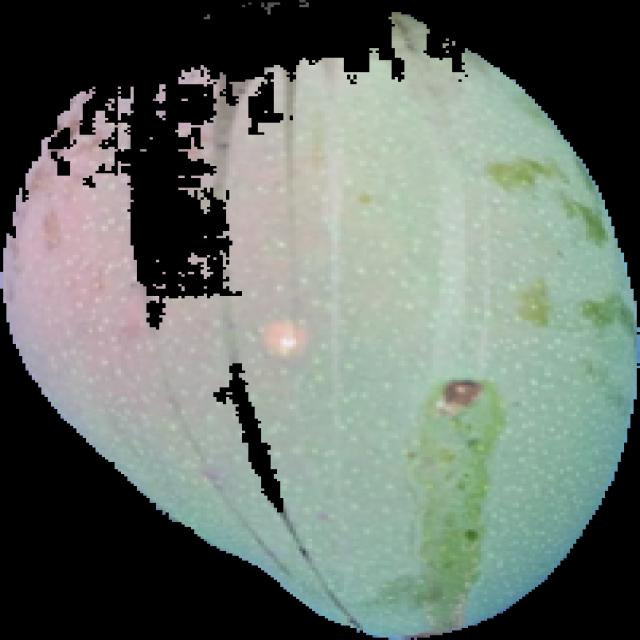Mango-sano: (0, 13, 639, 639)
